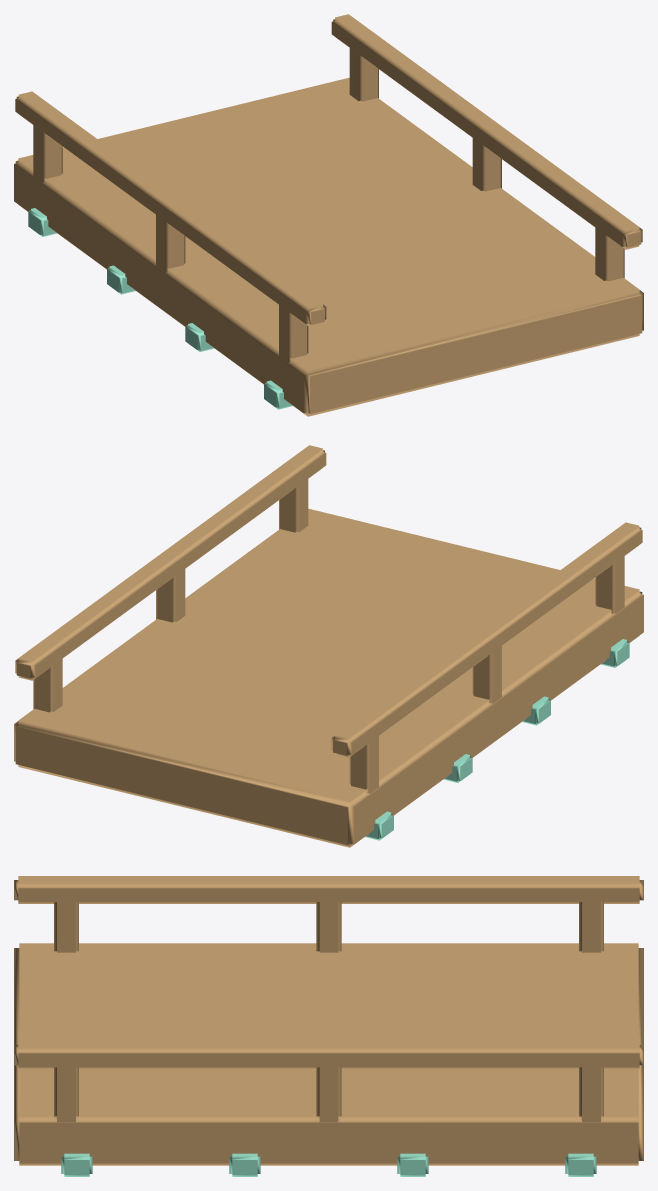
File: wood_rail_bridge.glb
The picture shows the model from 3 angles, top to bottom: view 1: azimuth 30°, elevation 25°; view 2: azimuth 150°, elevation 25°; view 3: azimuth 270°, elevation 25°; orthographic projection. The views are drawn at different scales.
Parts seen in each view (by area): view 1: Deck, RailTop_1.86, RailTop_-1.86, Post_-1.86_2.5, Post_-1.86_0.0, Post_-1.86_-2.5, Post_1.86_-2.5, Post_1.86_2.5, Post_1.86_0.0; view 2: Deck, RailTop_1.86, RailTop_-1.86, Post_-1.86_-2.5, Post_-1.86_0.0, Post_-1.86_2.5, Post_1.86_2.5, Post_1.86_0.0, Post_1.86_-2.5; view 3: Deck, RailTop_1.86, RailTop_-1.86, Post_1.86_0.0, Post_1.86_-2.5, Post_1.86_2.5, Post_-1.86_0.0, Post_-1.86_-2.5, Post_-1.86_2.5, CrossRib_0.8, CrossRib_2.4, CrossRib_-0.8 (+1 smaller).
Boxes of the visible parts, <box> form: Deck: <box>14,77,643,416</box>; RailTop_1.86: <box>331,14,642,249</box>; RailTop_-1.86: <box>15,91,326,326</box>; Post_-1.86_2.5: <box>33,118,62,182</box>; Post_-1.86_0.0: <box>156,208,185,272</box>; Post_-1.86_-2.5: <box>279,298,308,362</box>; Post_1.86_-2.5: <box>595,220,624,281</box>; Post_1.86_2.5: <box>349,41,378,101</box>; Post_1.86_0.0: <box>472,133,501,191</box>; Deck: <box>14,508,643,847</box>; RailTop_1.86: <box>15,445,326,680</box>; RailTop_-1.86: <box>331,522,642,757</box>; Post_-1.86_-2.5: <box>595,549,624,613</box>; Post_-1.86_0.0: <box>472,639,501,703</box>; Post_-1.86_2.5: <box>349,729,378,793</box>; Post_1.86_2.5: <box>33,651,62,712</box>; Post_1.86_0.0: <box>156,562,185,622</box>; Post_1.86_-2.5: <box>279,472,308,532</box>; Deck: <box>14,943,643,1165</box>; RailTop_1.86: <box>14,1041,643,1069</box>; RailTop_-1.86: <box>14,876,643,903</box>; Post_1.86_0.0: <box>316,1059,341,1122</box>; Post_1.86_-2.5: <box>54,1059,78,1122</box>; Post_1.86_2.5: <box>579,1059,603,1122</box>; Post_-1.86_0.0: <box>316,894,341,952</box>; Post_-1.86_-2.5: <box>54,894,78,952</box>; Post_-1.86_2.5: <box>579,894,603,952</box>; CrossRib_0.8: <box>397,1153,428,1176</box>; CrossRib_2.4: <box>565,1153,596,1176</box>; CrossRib_-0.8: <box>229,1153,260,1176</box>.
Bounding box in the file's own units: 4.16 × 1.3 × 6.
